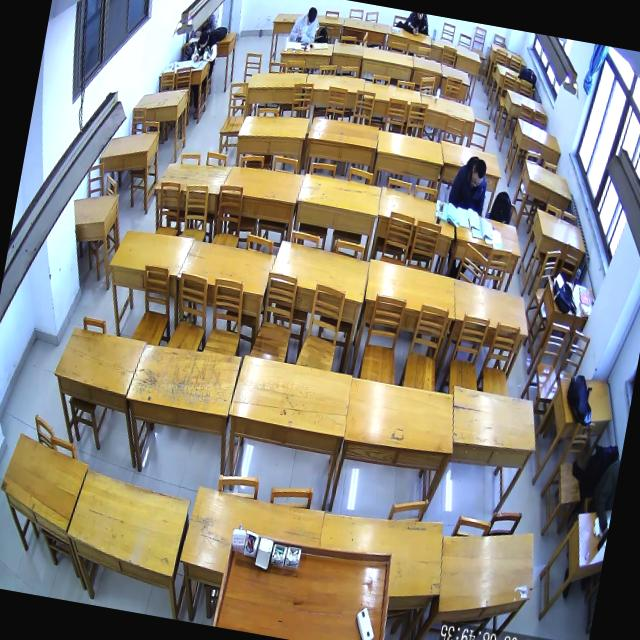down: (468, 158, 488, 188), (304, 6, 318, 26), (197, 31, 209, 49)
sit: (446, 152, 491, 215), (288, 3, 322, 45), (190, 28, 220, 66)
